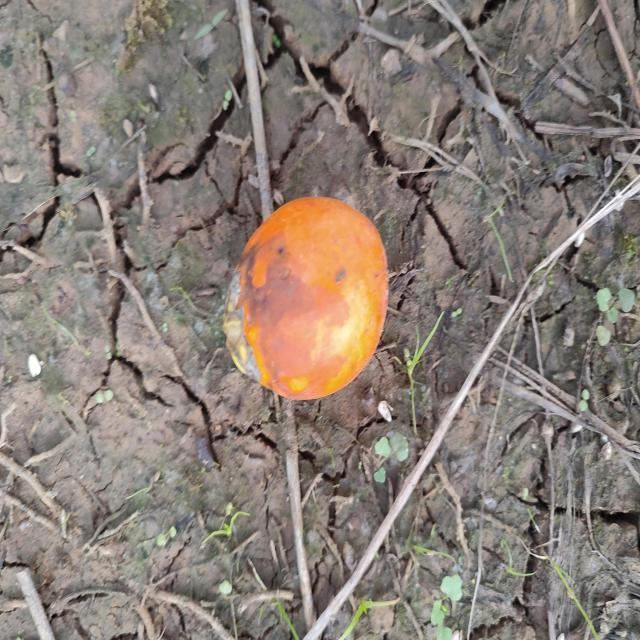good: (224, 197, 389, 403)
